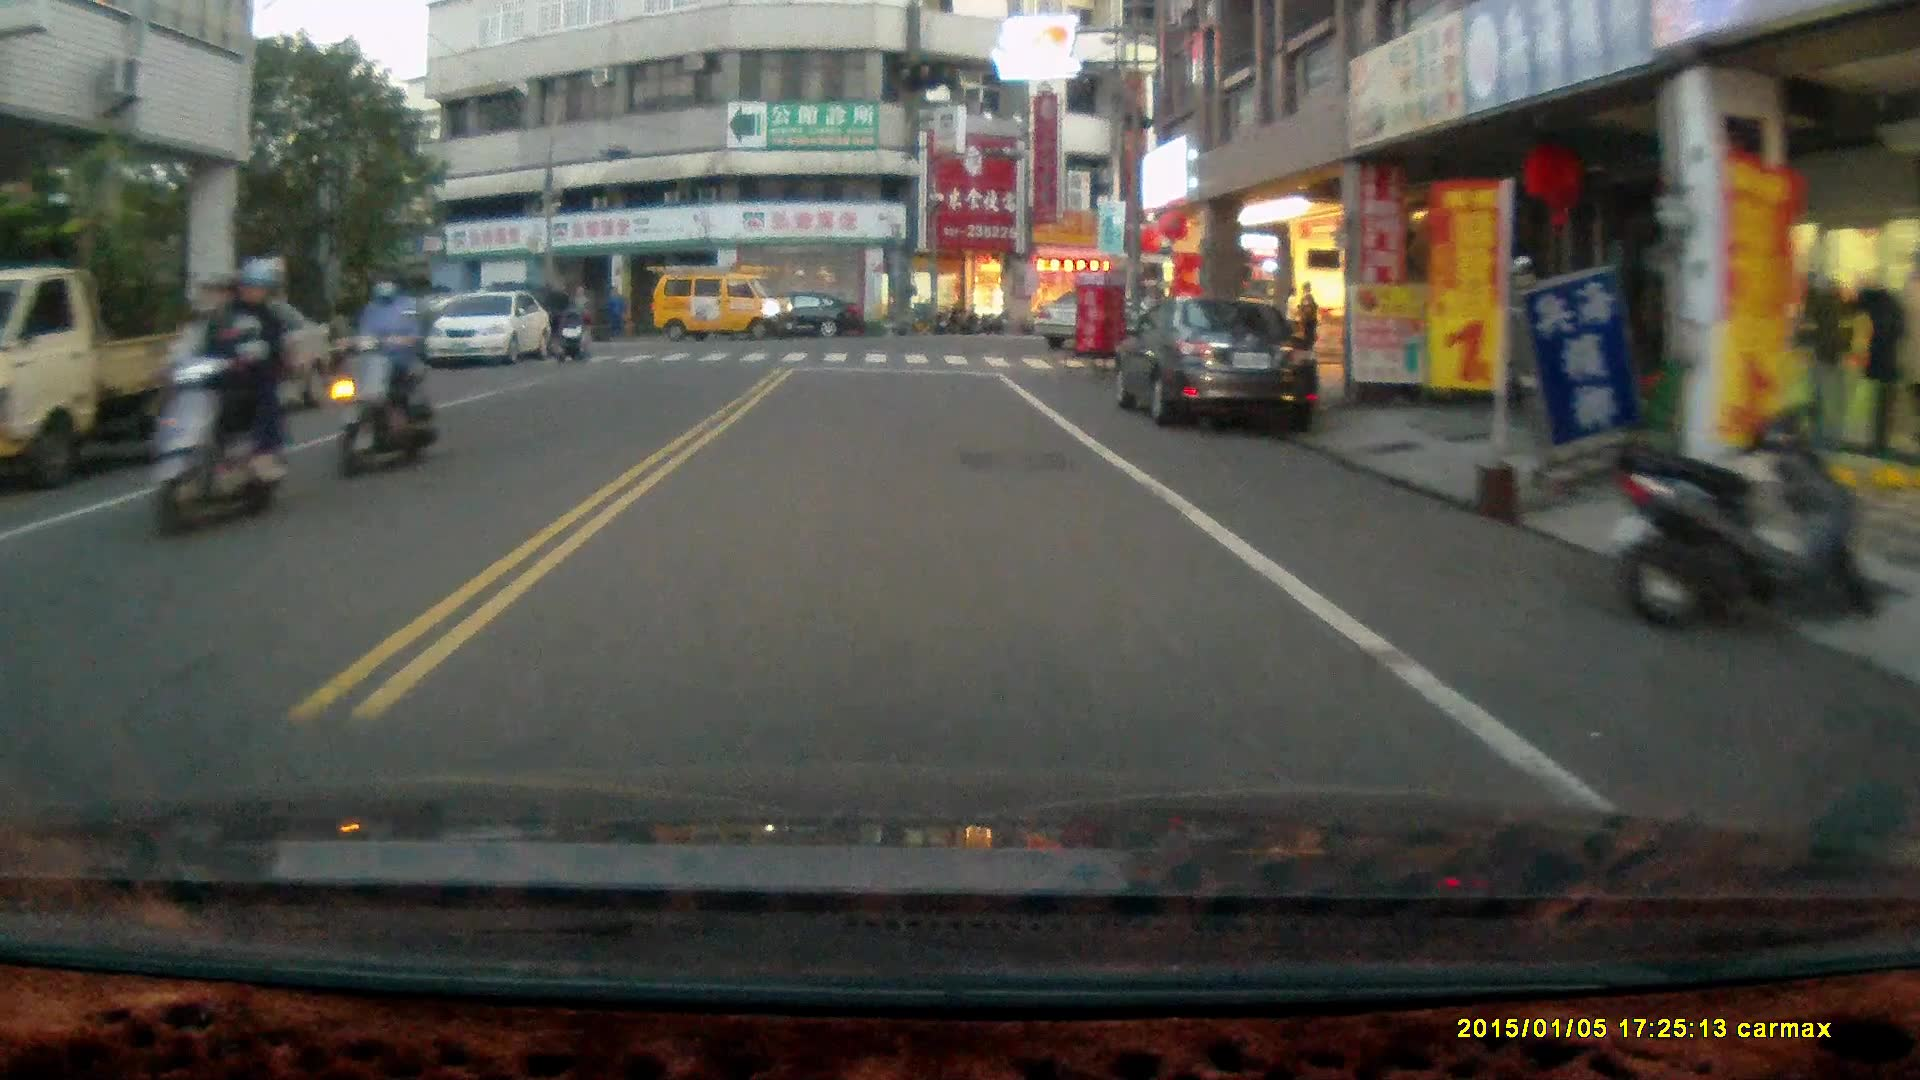pedestrian: (1296, 279, 1321, 364)
rider: (147, 253, 296, 543), (336, 256, 441, 482), (551, 306, 594, 367)
vehicle: (1, 263, 263, 483), (1111, 292, 1333, 441), (653, 262, 795, 344), (421, 288, 549, 369), (742, 288, 867, 340)
